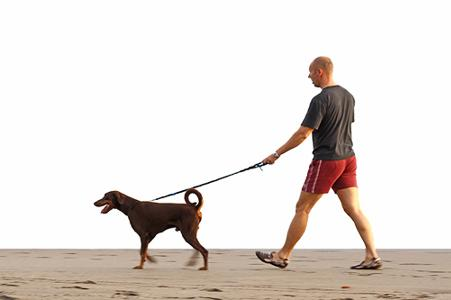person: (255, 57, 382, 270)
